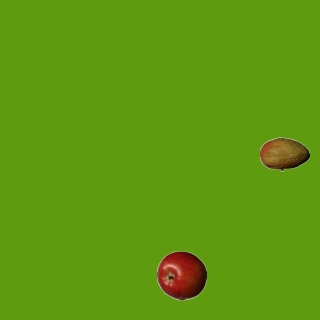Apple Braeburn: (156, 250, 206, 300)
Papaya: (259, 129, 309, 179)
